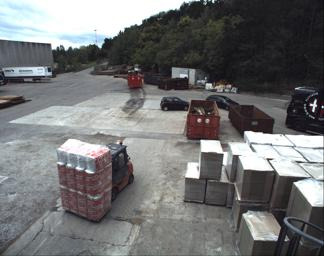rockwool_batts: (55, 138, 112, 220)
